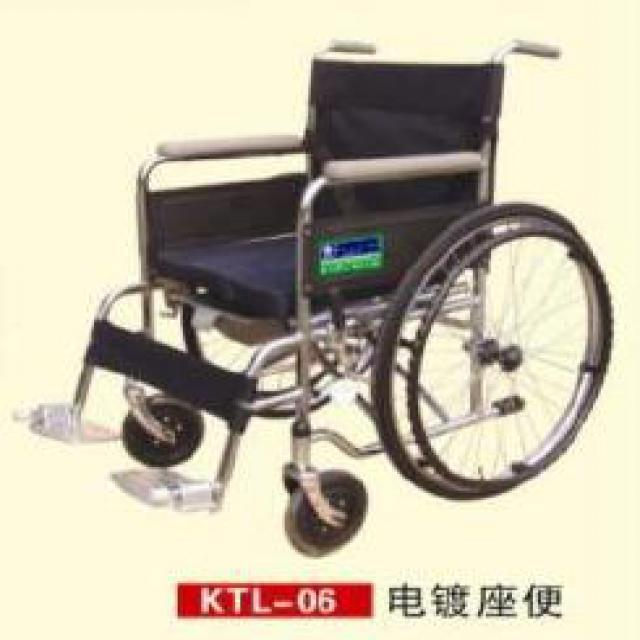wheelchair: (11, 31, 624, 564)
